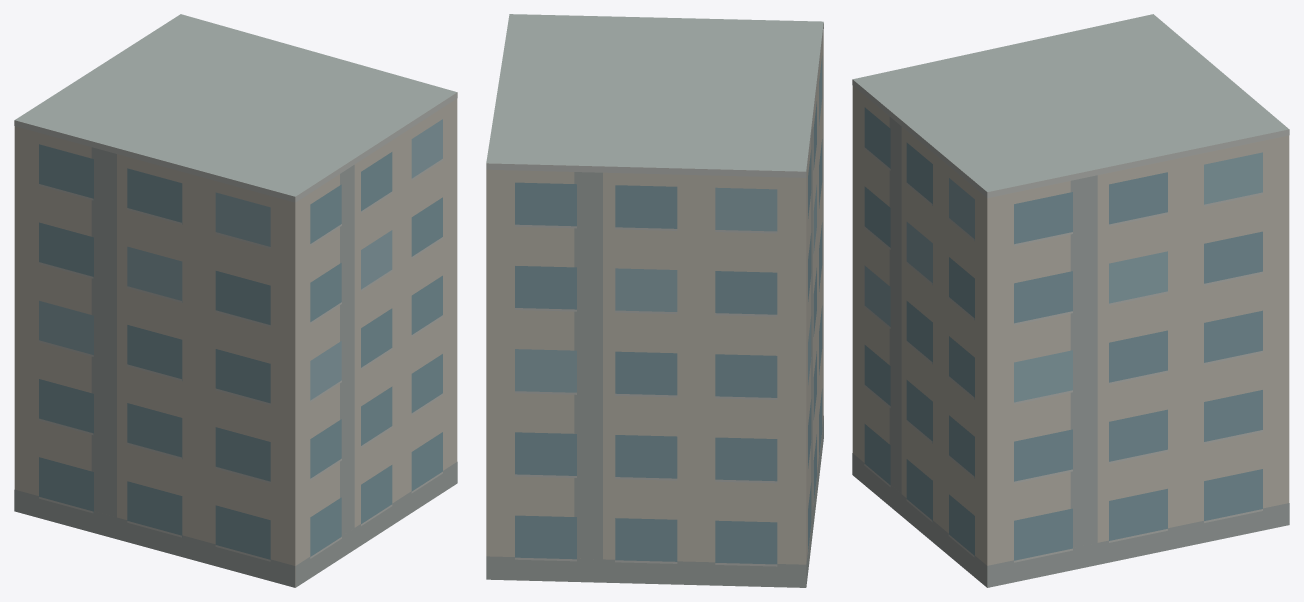
Rendered from survey-upis-32828640.glb.
3 views of the same model, side by side, from view 1: azimuth 30°, elevation 25°; view 2: azimuth 150°, elevation 25°; view 3: azimuth 270°, elevation 25° (orthographic). The views are drawn at different scales.
Parts seen in each view (by area): view 1: survey-upis-32828640.tmp; view 2: survey-upis-32828640.tmp; view 3: survey-upis-32828640.tmp.
Part boxes in pixels (x1,y1,x2,y2): survey-upis-32828640.tmp: [14, 14, 457, 587]; survey-upis-32828640.tmp: [486, 14, 823, 587]; survey-upis-32828640.tmp: [852, 14, 1289, 587].
Bounding box in the file's own units: 15.61 × 16.15 × 16.17.
